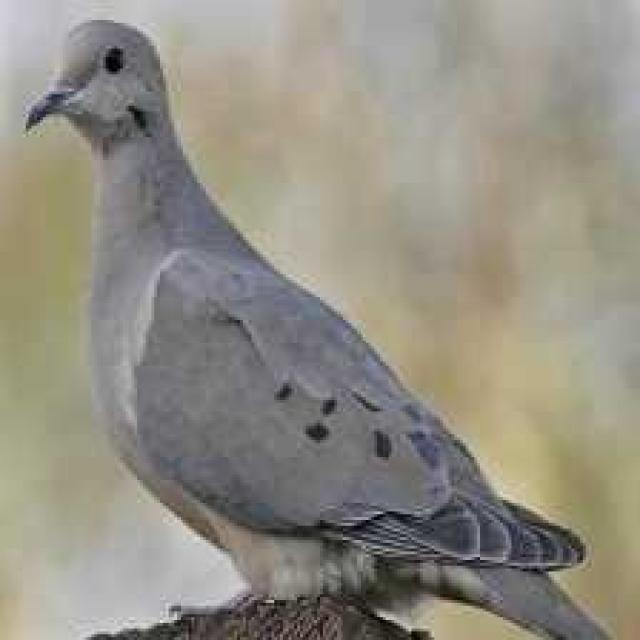bird: (20, 11, 626, 640)
